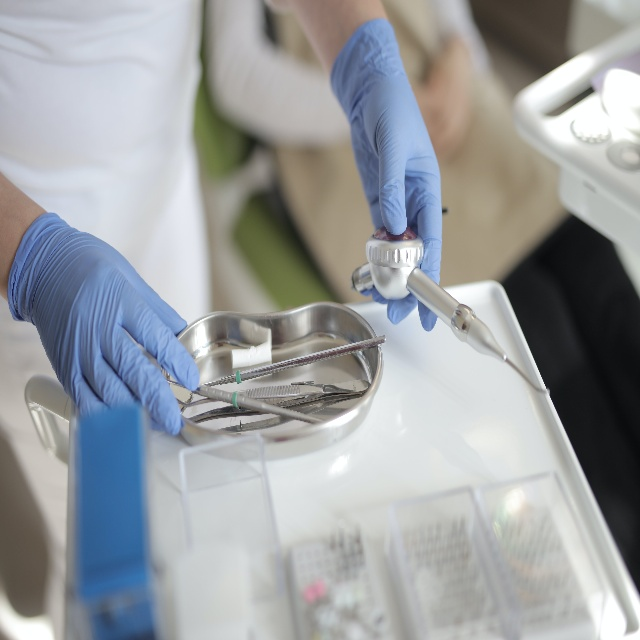Guantes: (7, 210, 200, 436), (329, 18, 442, 332)
